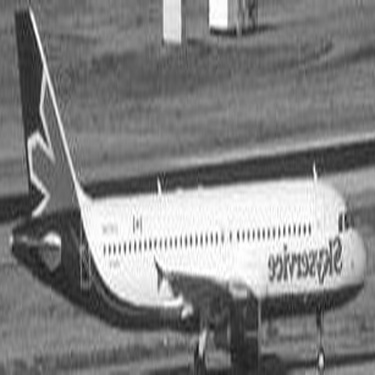airplane: (4, 2, 370, 371)
